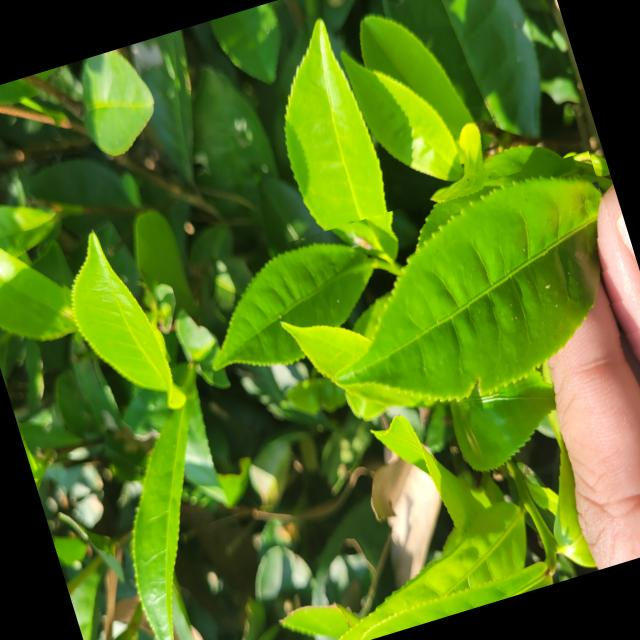Catagory A(1-2 days): (281, 149, 640, 444)
